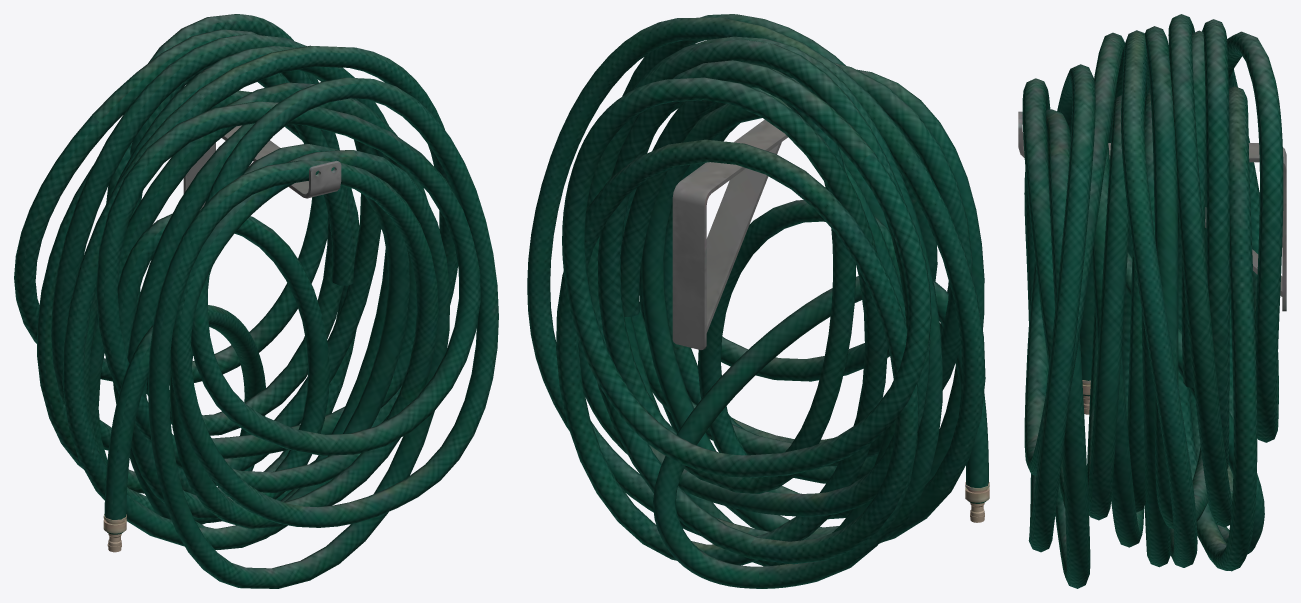
Rendered from garden_hose_wall_mounted_01.glb.
3 views of the same model, side by side, from view 1: azimuth 30°, elevation 25°; view 2: azimuth 150°, elevation 25°; view 3: azimuth 270°, elevation 25° (orthographic). The views are drawn at different scales.
Parts seen in each view (by area): view 1: garden_hose_wall_bracket; view 2: garden_hose_wall_bracket; view 3: garden_hose_wall_bracket.
Part boxes in pixels (x1,y1,x2,y2): garden_hose_wall_bracket: [14, 14, 498, 588]; garden_hose_wall_bracket: [527, 14, 989, 588]; garden_hose_wall_bracket: [1018, 14, 1286, 588].
Size of the model in its own units: 0.4667 by 0.557 by 0.2503.
1 material, 1 textured.
